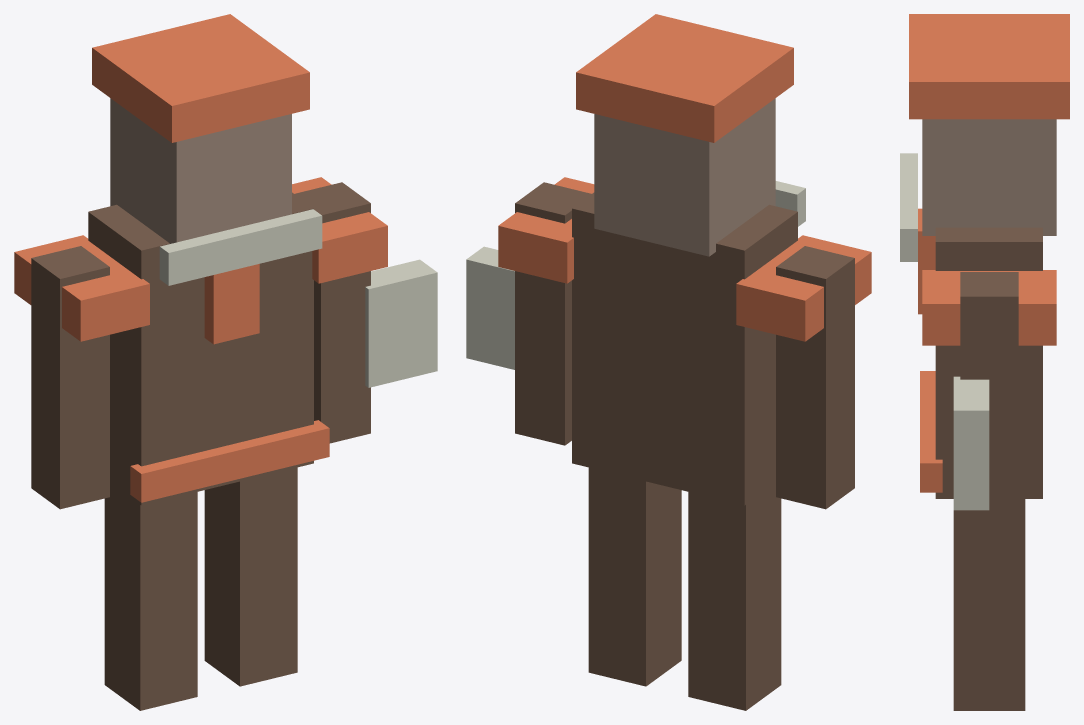
The model's file is 08_astra_voxmere_responder_under_simulation.glb.
The picture shows the model from 3 angles, left to right: view 1: azimuth 30°, elevation 25°; view 2: azimuth 150°, elevation 25°; view 3: azimuth 270°, elevation 25°; orthographic projection.
Parts seen in each view (by area): view 1: Astra Voxmere, Responder under Simulation; view 2: Astra Voxmere, Responder under Simulation; view 3: Astra Voxmere, Responder under Simulation.
Boxes of the visible parts, box(x1,y1,x2,y2) form: Astra Voxmere, Responder under Simulation: box(14, 14, 437, 710); Astra Voxmere, Responder under Simulation: box(466, 14, 871, 710); Astra Voxmere, Responder under Simulation: box(900, 14, 1069, 710).
Size of the model in its own units: 0.9361 by 1.48 by 0.3648.
